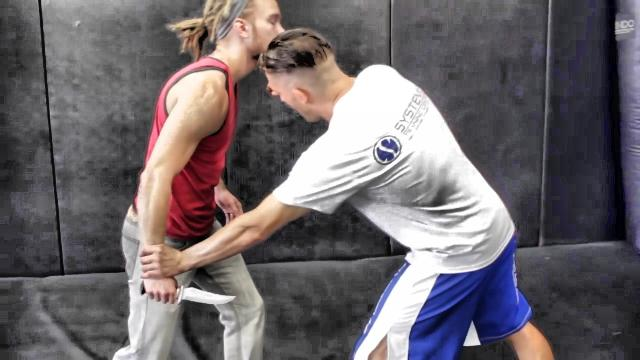knife: (133, 272, 243, 310)
